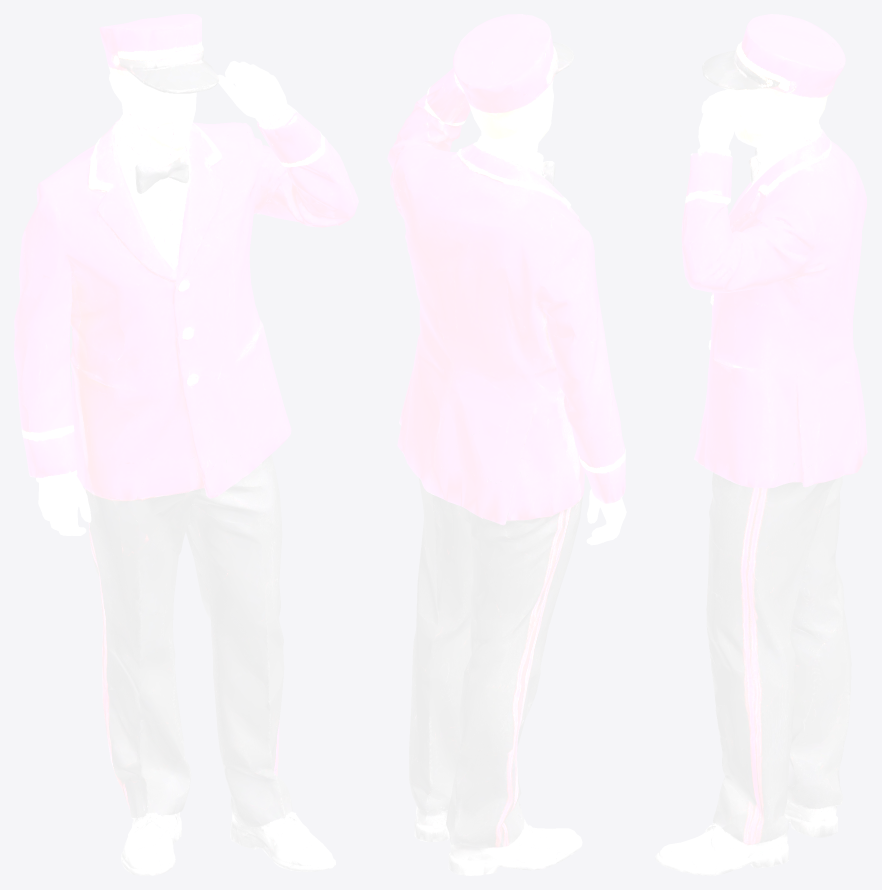
Rendered from bellhop.glb.
3 renders of one model, left to right at view 1: azimuth 30°, elevation 25°; view 2: azimuth 150°, elevation 25°; view 3: azimuth 270°, elevation 25°, orthographic. The views are drawn at different scales.
Visible parts, largest first — view 1: mesh_0; view 2: mesh_0; view 3: mesh_0.
Part boxes in pixels (<box>): mesh_0: <box>14,14,358,875</box>; mesh_0: <box>387,14,626,875</box>; mesh_0: <box>655,14,867,875</box>.
Size of the model in its own units: 0.2581 by 0.7403 by 0.1795.
1 material, 1 textured.
